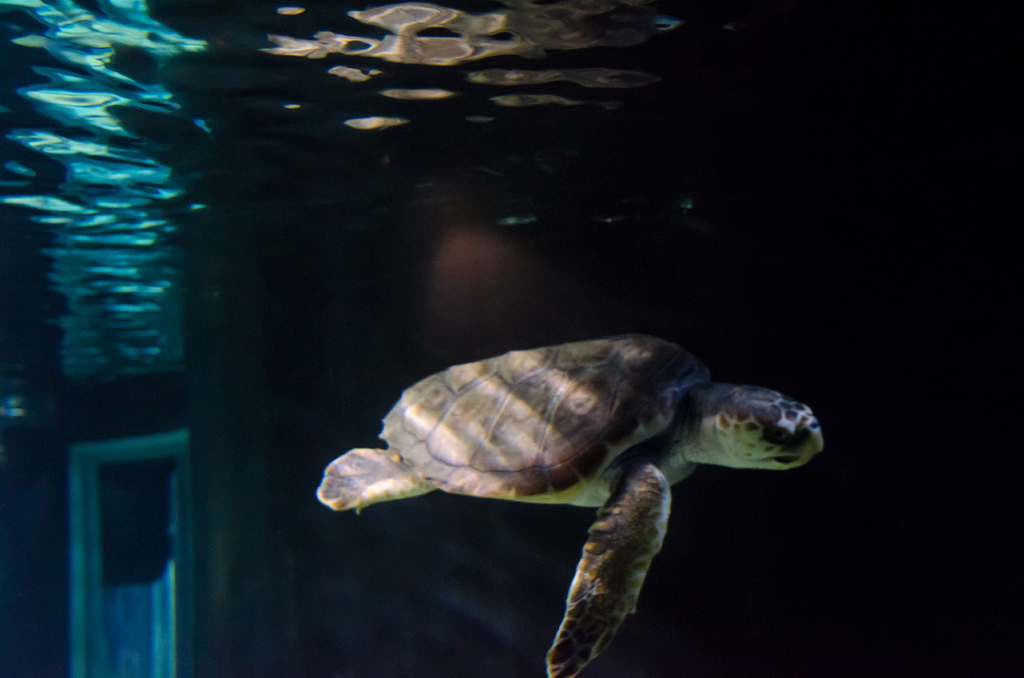Sea turtles: (309, 325, 827, 677)
